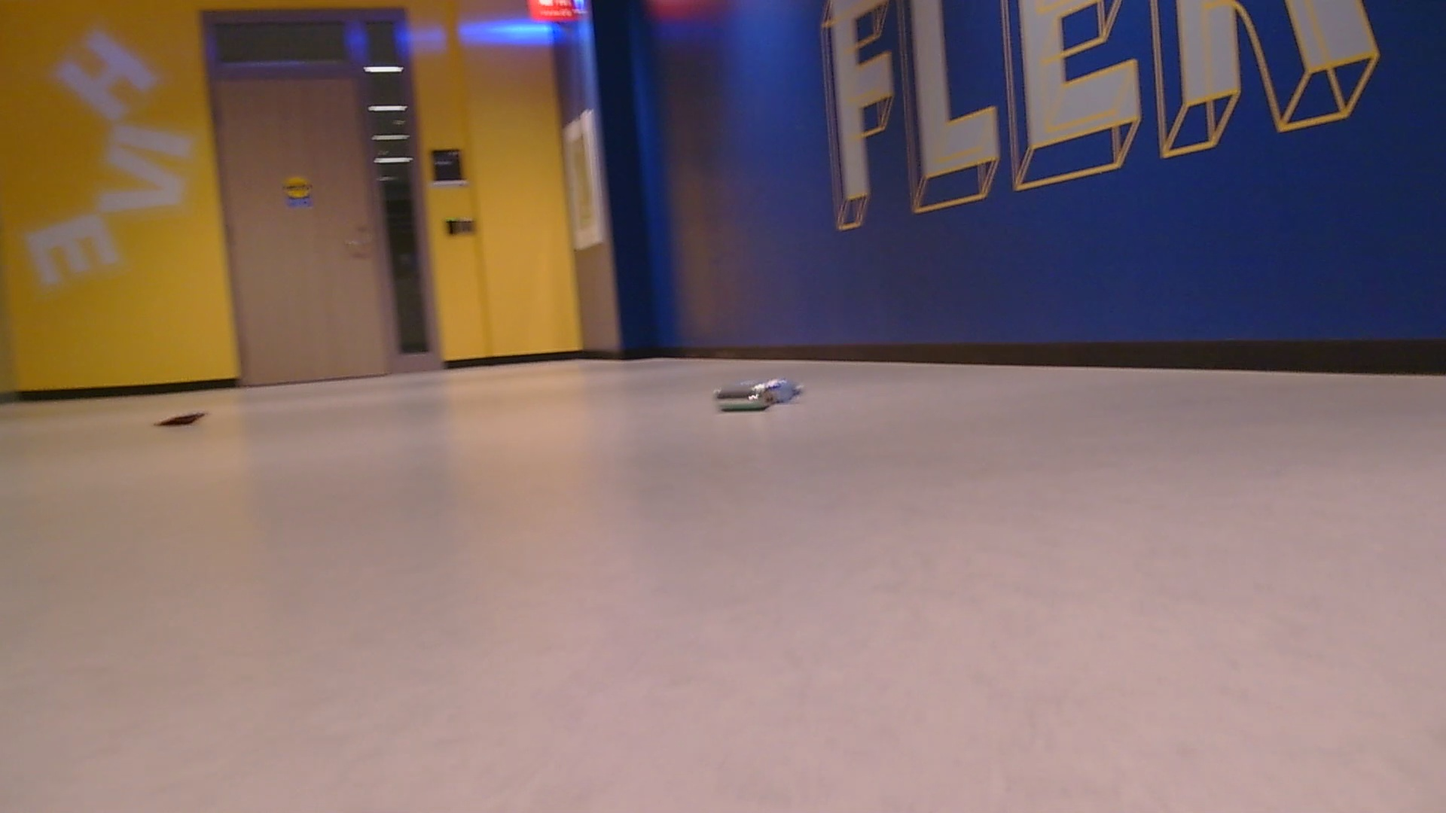can: (710, 377, 805, 413), (150, 408, 215, 430)
